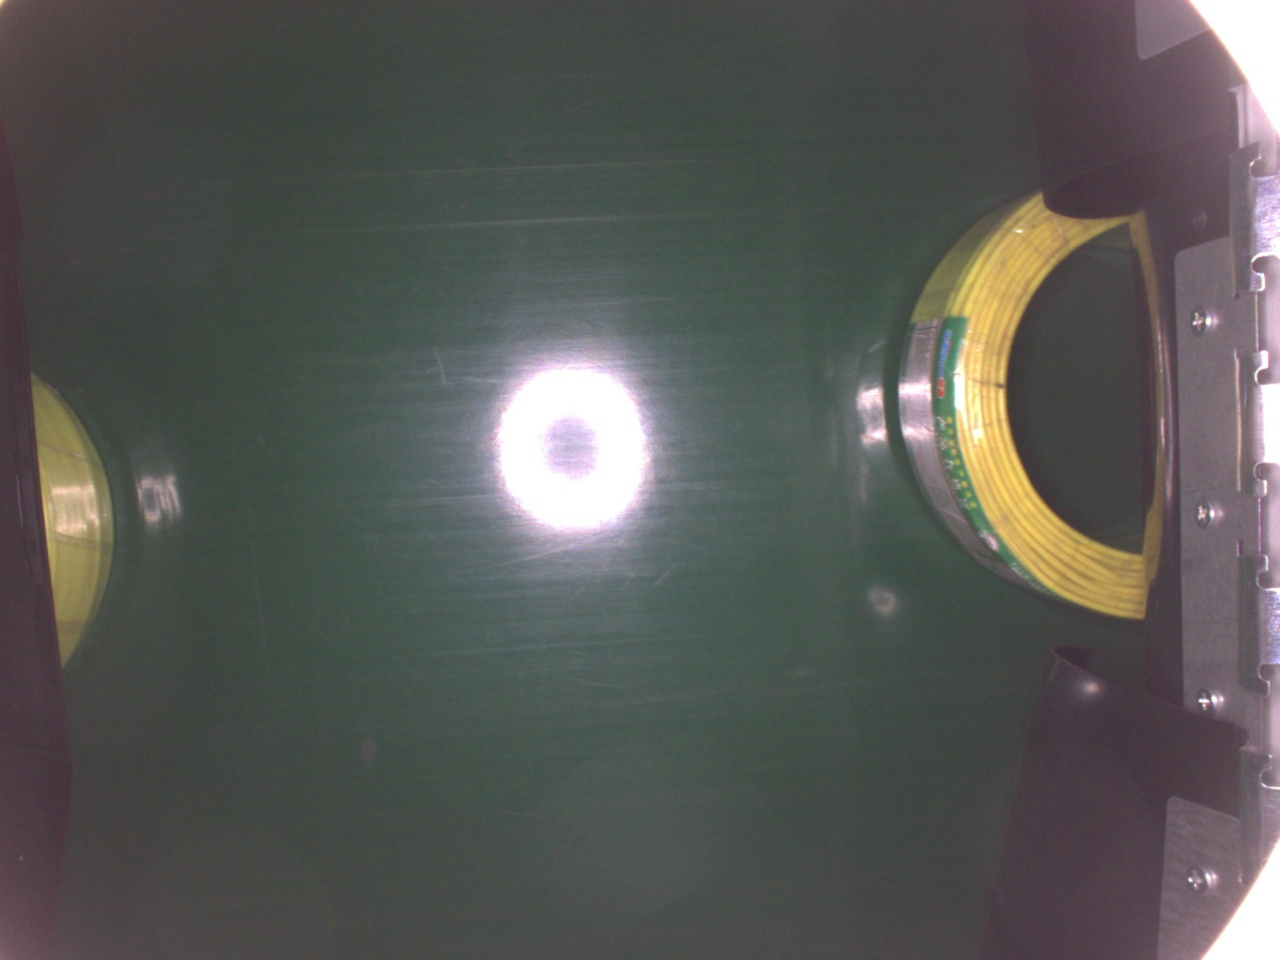yellow: (896, 194, 1164, 618)
